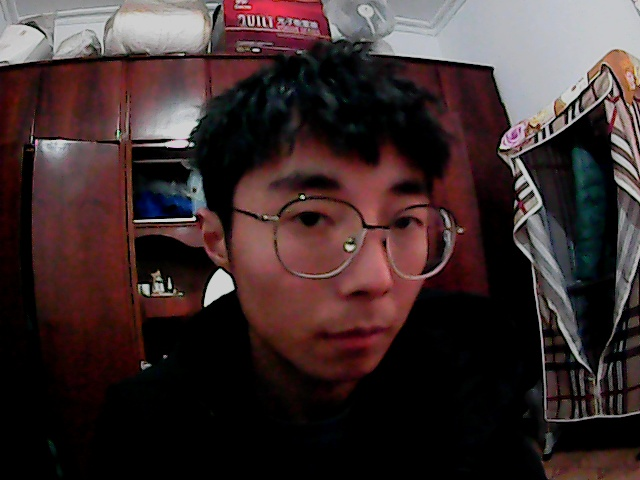face: (186, 48, 470, 400)
